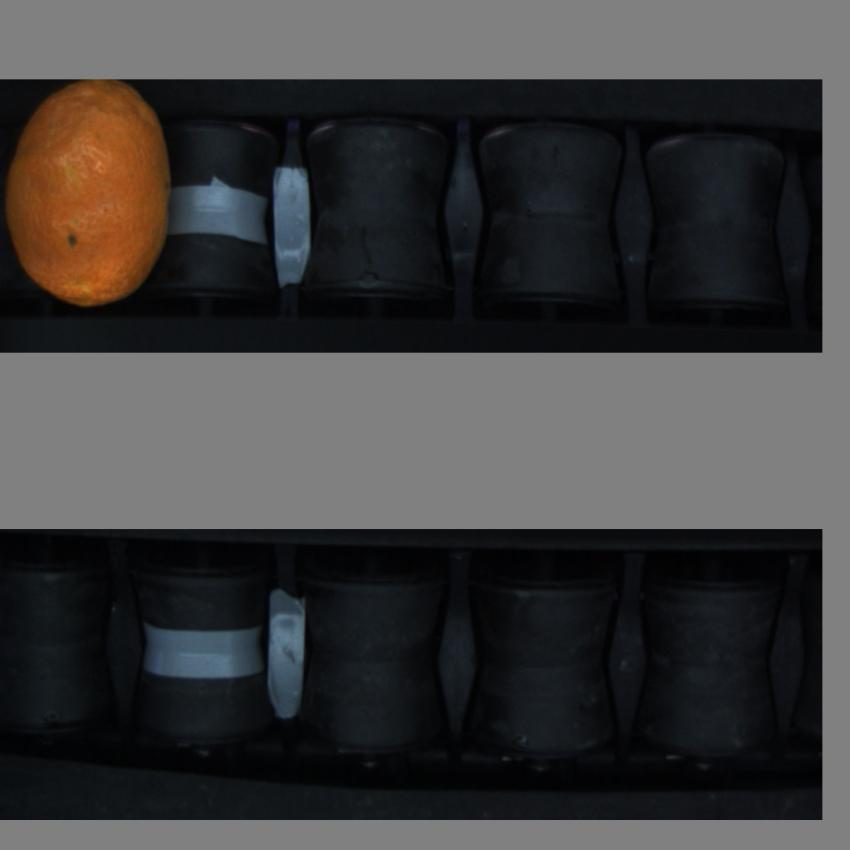Mal estado: (5, 82, 176, 311)
